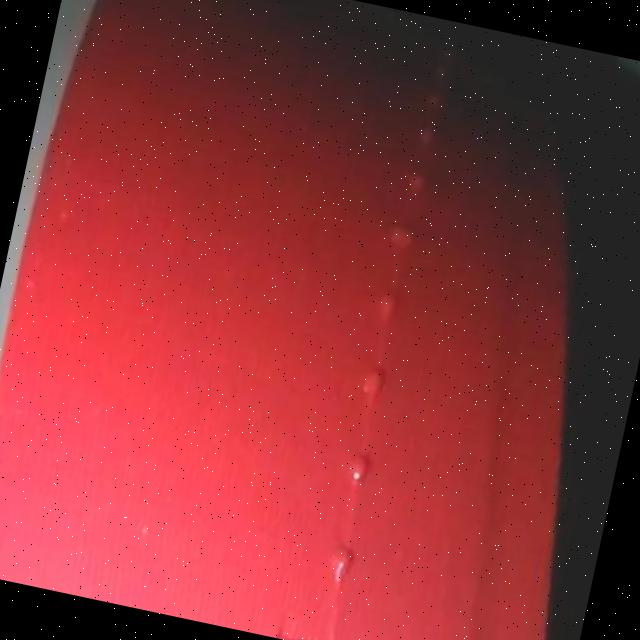blobs: (316, 542, 361, 588), (352, 357, 392, 406), (338, 447, 378, 489), (382, 216, 419, 258), (369, 279, 403, 318), (401, 163, 434, 200), (275, 625, 340, 640), (412, 122, 440, 151)
